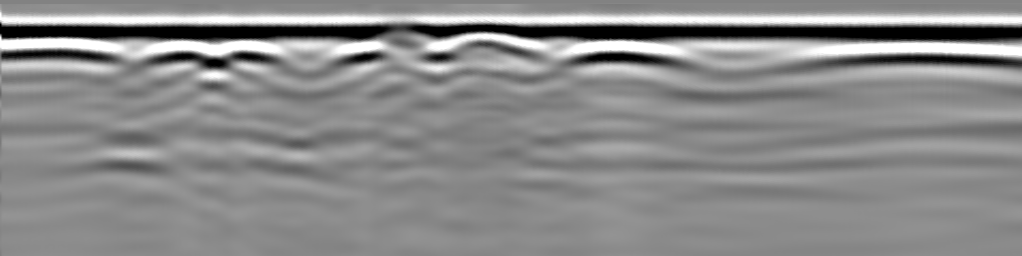pipe: (357, 20, 447, 49), (449, 22, 532, 47)
steel: (808, 43, 1022, 70), (143, 40, 287, 66), (2, 38, 124, 63), (564, 41, 686, 66)
